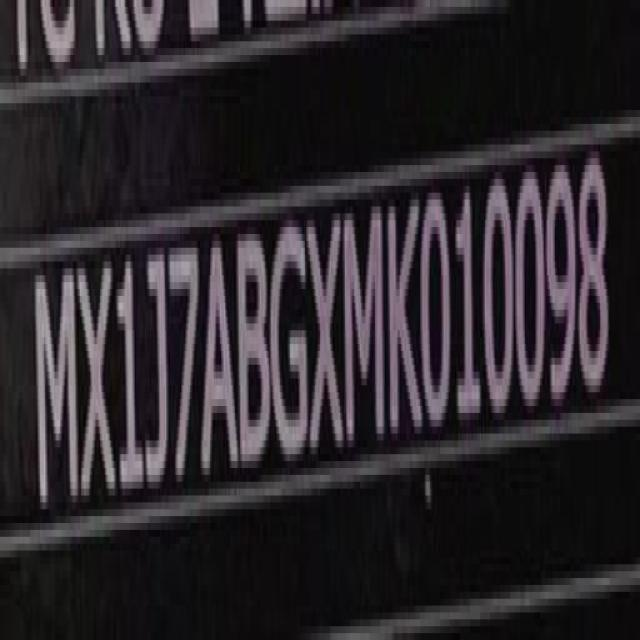0: (421, 183, 454, 440), (483, 175, 515, 426), (515, 168, 546, 420)
1: (115, 244, 142, 506), (456, 176, 480, 431)
7: (169, 238, 205, 497)
8: (580, 146, 613, 400)
9: (545, 156, 576, 411)
A: (203, 237, 239, 489)
B: (238, 228, 271, 478)
G: (270, 215, 312, 478)
J: (142, 246, 172, 503)
K: (387, 178, 422, 436)
M: (34, 261, 80, 522), (342, 192, 384, 457)
X: (308, 203, 345, 468), (81, 256, 117, 514)
